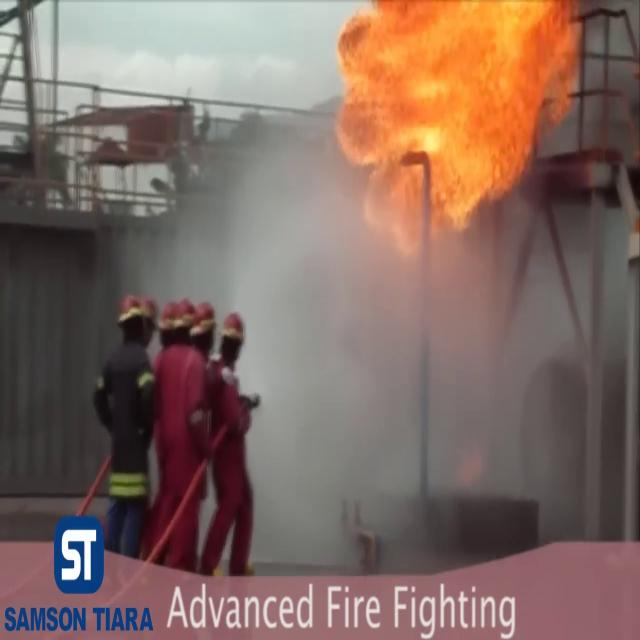Fire: (303, 0, 579, 247)
